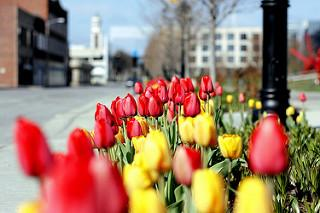tulip: (248, 114, 288, 172), (195, 113, 216, 145), (218, 133, 242, 158), (183, 90, 199, 114), (122, 93, 137, 115), (148, 95, 162, 116)
